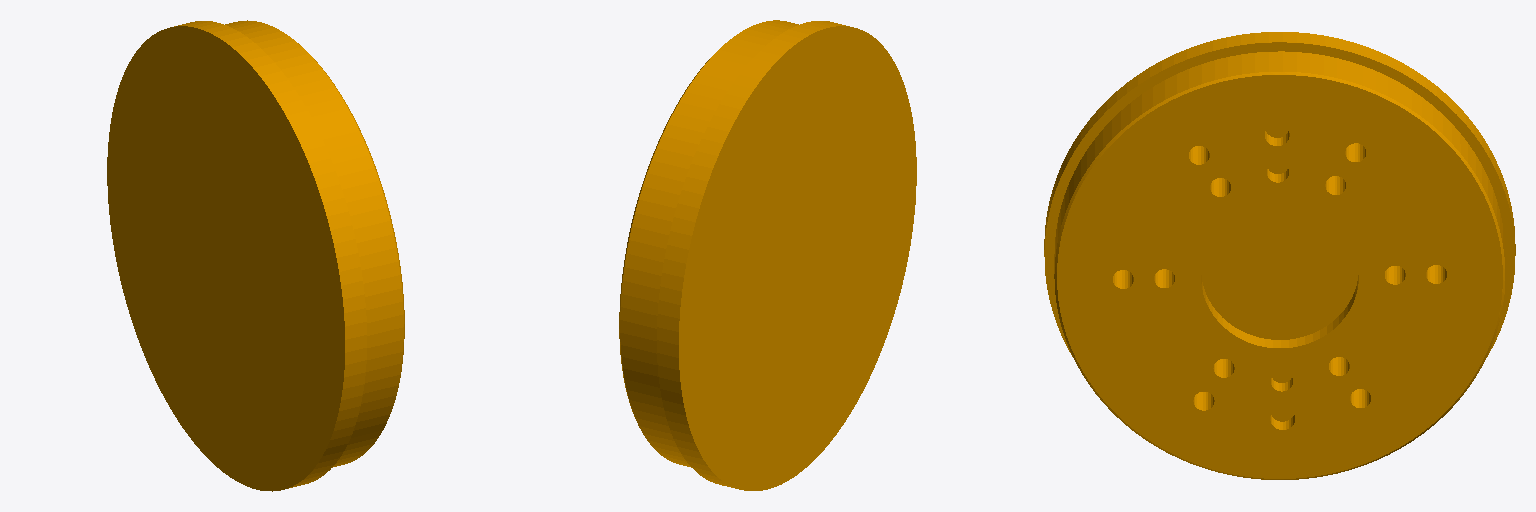
The robot description file, URDF, robot "Robot":
<?xml version="1.0" ?>
<robot name="Robot">

<material name="silver">
  <color rgba="0.700 0.700 0.700 1.000"/>
</material>

<link name="base_link">
  <inertial>
    <origin xyz="0.0 0.0 0.0" rpy="0 0 0"/>
    <mass value="0.0"/>
    <inertia ixx="0.0" iyy="0.0" izz="0.0" ixy="0.0" iyz="0.0" ixz="0.0"/>
  </inertial>
  <visual>
    <origin xyz="0 0 0" rpy="0 0 0"/>
    <geometry>
      <mesh filename="meshes/base_link.stl" scale="0.001 0.001 0.001"/>
    </geometry>
    <material name="silver"/>
    <material/>
  </visual>
  <collision>
    <origin xyz="0 0 0" rpy="0 0 0"/>
    <geometry>
      <mesh filename="meshes/base_link.stl" scale="0.001 0.001 0.001"/>
    </geometry>
  </collision>
</link>

<link name="placa_base1">
  <inertial>
    <origin xyz="0.40877638686219 -1.4600099364657049 -0.6525991128809477" rpy="0 0 0"/>
    <mass value="375.4086793589621"/>
    <inertia ixx="38.02067284848687" iyy="20.791186447290116" izz="56.84458630240343" ixy="-7.702526247044261e-06" iyz="-0.11817074023767304" ixz="-4.431769440316202e-08"/>
  </inertial>
  <visual>
    <origin xyz="0.011211 -2.022818 -0.91961" rpy="0 0 0"/>
    <geometry>
      <mesh filename="meshes/placa_base1.stl" scale="0.001 0.001 0.001"/>
    </geometry>
    <material name="silver"/>
    <material/>
  </visual>
  <collision>
    <origin xyz="0.011211 -2.022818 -0.91961" rpy="0 0 0"/>
    <geometry>
      <mesh filename="meshes/placa_base1.stl" scale="0.001 0.001 0.001"/>
    </geometry>
  </collision>
</link>

<link name="base_r1">
  <inertial>
    <origin xyz="-0.07435754686676044 -0.0004390727397289851 0.1163853188916053" rpy="0 0 0"/>
    <mass value="570.670009527453"/>
    <inertia ixx="15.007731795878271" iyy="29.8002880804859" izz="35.94575537583742" ixy="-0.008385642875907706" iyz="-0.049964601328127856" ixz="0.9746269253855928"/>
  </inertial>
  <visual>
    <origin xyz="-0.397565 -0.568456 -0.317359" rpy="0 0 0"/>
    <geometry>
      <mesh filename="meshes/base_r1.stl" scale="0.001 0.001 0.001"/>
    </geometry>
    <material name="silver"/>
    <material/>
  </visual>
  <collision>
    <origin xyz="-0.397565 -0.568456 -0.317359" rpy="0 0 0"/>
    <geometry>
      <mesh filename="meshes/base_r1.stl" scale="0.001 0.001 0.001"/>
    </geometry>
  </collision>
</link>

<link name="s_axis1">
  <inertial>
    <origin xyz="0.24654028338249517 -0.04135438603178743 0.201938348833121" rpy="0 0 0"/>
    <mass value="704.6084530701154"/>
    <inertia ixx="48.865557050075154" iyy="116.94190982276893" izz="129.87540407311695" ixy="-10.669964153775169" iyz="3.7822918762317954" ixz="12.845024374148181"/>
  </inertial>
  <visual>
    <origin xyz="-0.397565 -0.568456 -0.609359" rpy="0 0 0"/>
    <geometry>
      <mesh filename="meshes/s_axis1.stl" scale="0.001 0.001 0.001"/>
    </geometry>
    <material name="silver"/>
    <material/>
  </visual>
  <collision>
    <origin xyz="-0.397565 -0.568456 -0.609359" rpy="0 0 0"/>
    <geometry>
      <mesh filename="meshes/s_axis1.stl" scale="0.001 0.001 0.001"/>
    </geometry>
  </collision>
</link>

<link name="l_axis1">
  <inertial>
    <origin xyz="0.027205812442917532 -0.16142313250842483 0.46588585894516765" rpy="0 0 0"/>
    <mass value="552.7971519942739"/>
    <inertia ixx="81.3413160735854" iyy="82.03600982568787" izz="9.751944802216144" ixy="-0.6479570420340508" iyz="8.230717944273692" ixz="1.7973074241333507"/>
  </inertial>
  <visual>
    <origin xyz="-1.137571 -0.490512 -0.757359" rpy="0 0 0"/>
    <geometry>
      <mesh filename="meshes/l_axis1.stl" scale="0.001 0.001 0.001"/>
    </geometry>
    <material name="silver"/>
    <material/>
  </visual>
  <collision>
    <origin xyz="-1.137571 -0.490512 -0.757359" rpy="0 0 0"/>
    <geometry>
      <mesh filename="meshes/l_axis1.stl" scale="0.001 0.001 0.001"/>
    </geometry>
  </collision>
</link>

<link name="u_axis1">
  <inertial>
    <origin xyz="0.2916606047917749 0.2143462434100445 0.14928647205424506" rpy="0 0 0"/>
    <mass value="483.4234110989252"/>
    <inertia ixx="14.609702279059547" iyy="57.21389978569323" izz="54.57939855035738" ixy="-6.234944861433519" iyz="-3.416392719524424" ixz="-11.507639554971547"/>
  </inertial>
  <visual>
    <origin xyz="-1.137534 -0.301512 -1.907359" rpy="0 0 0"/>
    <geometry>
      <mesh filename="meshes/u_axis1.stl" scale="0.001 0.001 0.001"/>
    </geometry>
    <material name="silver"/>
    <material/>
  </visual>
  <collision>
    <origin xyz="-1.137534 -0.301512 -1.907359" rpy="0 0 0"/>
    <geometry>
      <mesh filename="meshes/u_axis1.stl" scale="0.001 0.001 0.001"/>
    </geometry>
  </collision>
</link>

<link name="r_axis1">
  <inertial>
    <origin xyz="0.1685563993211039 -0.07412707539147773 -0.0004901924830997828" rpy="0 0 0"/>
    <mass value="8.899946281447061"/>
    <inertia ixx="0.06127843254422061" iyy="0.08034237671594724" izz="0.08937108282597706" ixy="0.018596107290122177" iyz="0.00024897477269725243" ixz="8.428900012091844e-05"/>
  </inertial>
  <visual>
    <origin xyz="-2.166033 -0.568589 -2.157277" rpy="0 0 0"/>
    <geometry>
      <mesh filename="meshes/r_axis1.stl" scale="0.001 0.001 0.001"/>
    </geometry>
    <material name="silver"/>
    <material/>
  </visual>
  <collision>
    <origin xyz="-2.166033 -0.568589 -2.157277" rpy="0 0 0"/>
    <geometry>
      <mesh filename="meshes/r_axis1.stl" scale="0.001 0.001 0.001"/>
    </geometry>
  </collision>
</link>

<link name="b_axis1">
  <inertial>
    <origin xyz="0.10691585220915778 0.13249813747746225 1.7028415353781412e-05" rpy="0 0 0"/>
    <mass value="45.978906535968754"/>
    <inertia ixx="0.38205481909454875" iyy="0.49014927642423345" izz="0.5800243135331584" ixy="0.018167428092283444" iyz="0.00018797387867408588" ixz="-1.824754548351848e-05"/>
  </inertial>
  <visual>
    <origin xyz="-2.362546 -0.399739 -2.157247" rpy="0 0 0"/>
    <geometry>
      <mesh filename="meshes/b_axis1.stl" scale="0.001 0.001 0.001"/>
    </geometry>
    <material name="silver"/>
    <material/>
  </visual>
  <collision>
    <origin xyz="-2.362546 -0.399739 -2.157247" rpy="0 0 0"/>
    <geometry>
      <mesh filename="meshes/b_axis1.stl" scale="0.001 0.001 0.001"/>
    </geometry>
  </collision>
</link>

<link name="t_axis1">
  <inertial>
    <origin xyz="0.014205681418202776 1.4136109089957216e-06 -3.8225856600071495e-06" rpy="0 0 0"/>
    <mass value="5.836276011069466"/>
    <inertia ixx="0.025268192829255298" iyy="0.013037480764481302" izz="0.013092889235352345" ixy="9.167754582151133e-07" iyz="-9.661189421805716e-07" ixz="-3.617309602077512e-06"/>
  </inertial>
  <visual>
    <origin xyz="-2.582537 -0.527255 -2.157192" rpy="0 0 0"/>
    <geometry>
      <mesh filename="meshes/t_axis1.stl" scale="0.001 0.001 0.001"/>
    </geometry>
    <material name="silver"/>
    <material/>
  </visual>
  <collision>
    <origin xyz="-2.582537 -0.527255 -2.157192" rpy="0 0 0"/>
    <geometry>
      <mesh filename="meshes/t_axis1.stl" scale="0.001 0.001 0.001"/>
    </geometry>
  </collision>
</link>

<link name="balancer_21">
  <inertial>
    <origin xyz="-1.0071355171291383 -1.141364295073391 -0.48045645693854944" rpy="0 0 0"/>
    <mass value="34.720628844492076"/>
    <inertia ixx="0.3660507282264831" iyy="6.432975989754773" izz="6.085231601474279" ixy="0.006621337131715421" iyz="-0.0015655726474221865" ixz="1.4321732317723797"/>
  </inertial>
  <visual>
    <origin xyz="-1.412434 -1.519454 -1.498385" rpy="0 0 0"/>
    <geometry>
      <mesh filename="meshes/balancer_21.stl" scale="0.001 0.001 0.001"/>
    </geometry>
    <material name="silver"/>
    <material/>
  </visual>
  <collision>
    <origin xyz="-1.412434 -1.519454 -1.498385" rpy="0 0 0"/>
    <geometry>
      <mesh filename="meshes/balancer_21.stl" scale="0.001 0.001 0.001"/>
    </geometry>
  </collision>
</link>

<link name="balancer_11">
  <inertial>
    <origin xyz="0.27454396791234575 -1.5743809510766291 -0.7961805409798757" rpy="0 0 0"/>
    <mass value="1052.0941459866974"/>
    <inertia ixx="24.42331144454556" iyy="134.39070049428642" izz="128.35779332816" ixy="-0.008243507566618291" iyz="0.001952817510357363" ixz="26.04558294972415"/>
  </inertial>
  <visual>
    <origin xyz="0.078722 -1.952822 -1.863697" rpy="0 0 0"/>
    <geometry>
      <mesh filename="meshes/balancer_11.stl" scale="0.001 0.001 0.001"/>
    </geometry>
    <material name="silver"/>
    <material/>
  </visual>
  <collision>
    <origin xyz="0.078722 -1.952822 -1.863697" rpy="0 0 0"/>
    <geometry>
      <mesh filename="meshes/balancer_11.stl" scale="0.001 0.001 0.001"/>
    </geometry>
  </collision>
</link>

<joint name="base_link1" type="prismatic">
  <origin xyz="-0.011211 2.022818 0.91961" rpy="0 0 0"/>
  <parent link="base_link"/>
  <child link="placa_base1"/>
  <axis xyz="0.0 -1.0 0.0"/>
  <limit upper="-0.01" lower="-1.9" effort="100" velocity="100"/>
</joint>
<transmission name="base_link1_tran">
  <type>transmission_interface/SimpleTransmission</type>
  <joint name="base_link1">
    <hardwareInterface>PositionJointInterface</hardwareInterface>
  </joint>
  <actuator name="base_link1_actr">
    <hardwareInterface>PositionJointInterface</hardwareInterface>
    <mechanicalReduction>1</mechanicalReduction>
  </actuator>
</transmission>

<joint name="rig1" type="fixed">
  <origin xyz="0.408776 -1.454362 -0.602251" rpy="0 0 0"/>
  <parent link="placa_base1"/>
  <child link="base_r1"/>
</joint>

<joint name="link1_link2" type="continuous">
  <origin xyz="0.0 0.0 0.292" rpy="0 0 0"/>
  <parent link="base_r1"/>
  <child link="s_axis1"/>
  <axis xyz="0.0 0.0 1.0"/>
</joint>
<transmission name="link1_link2_tran">
  <type>transmission_interface/SimpleTransmission</type>
  <joint name="link1_link2">
    <hardwareInterface>PositionJointInterface</hardwareInterface>
  </joint>
  <actuator name="link1_link2_actr">
    <hardwareInterface>PositionJointInterface</hardwareInterface>
    <mechanicalReduction>1</mechanicalReduction>
  </actuator>
</transmission>

<joint name="link2_link3" type="revolute">
  <origin xyz="0.740006 -0.077944 0.148" rpy="0 0 0"/>
  <parent link="s_axis1"/>
  <child link="l_axis1"/>
  <axis xyz="7.5e-05 -1.0 0.0"/>
  <limit upper="0.610865" lower="-1.22173" effort="100" velocity="100"/>
</joint>
<transmission name="link2_link3_tran">
  <type>transmission_interface/SimpleTransmission</type>
  <joint name="link2_link3">
    <hardwareInterface>PositionJointInterface</hardwareInterface>
  </joint>
  <actuator name="link2_link3_actr">
    <hardwareInterface>PositionJointInterface</hardwareInterface>
    <mechanicalReduction>1</mechanicalReduction>
  </actuator>
</transmission>

<joint name="link3_link4" type="continuous">
  <origin xyz="-3.7e-05 -0.189 1.15" rpy="0 0 0"/>
  <parent link="l_axis1"/>
  <child link="u_axis1"/>
  <axis xyz="-7.5e-05 1.0 -0.0"/>
</joint>
<transmission name="link3_link4_tran">
  <type>transmission_interface/SimpleTransmission</type>
  <joint name="link3_link4">
    <hardwareInterface>PositionJointInterface</hardwareInterface>
  </joint>
  <actuator name="link3_link4_actr">
    <hardwareInterface>PositionJointInterface</hardwareInterface>
    <mechanicalReduction>1</mechanicalReduction>
  </actuator>
</transmission>

<joint name="link4_link5" type="continuous">
  <origin xyz="1.028499 0.267077 0.249918" rpy="0 0 0"/>
  <parent link="u_axis1"/>
  <child link="r_axis1"/>
  <axis xyz="1.0 7.5e-05 -8e-05"/>
</joint>
<transmission name="link4_link5_tran">
  <type>transmission_interface/SimpleTransmission</type>
  <joint name="link4_link5">
    <hardwareInterface>PositionJointInterface</hardwareInterface>
  </joint>
  <actuator name="link4_link5_actr">
    <hardwareInterface>PositionJointInterface</hardwareInterface>
    <mechanicalReduction>1</mechanicalReduction>
  </actuator>
</transmission>

<joint name="link5_link6" type="revolute">
  <origin xyz="0.196513 -0.16885 -3e-05" rpy="0 0 0"/>
  <parent link="r_axis1"/>
  <child link="b_axis1"/>
  <axis xyz="7.5e-05 -1.0 -8.2e-05"/>
  <limit upper="2.094395" lower="-2.094395" effort="100" velocity="100"/>
</joint>
<transmission name="link5_link6_tran">
  <type>transmission_interface/SimpleTransmission</type>
  <joint name="link5_link6">
    <hardwareInterface>PositionJointInterface</hardwareInterface>
  </joint>
  <actuator name="link5_link6_actr">
    <hardwareInterface>PositionJointInterface</hardwareInterface>
    <mechanicalReduction>1</mechanicalReduction>
  </actuator>
</transmission>

<joint name="link6_link7" type="continuous">
  <origin xyz="0.219991 0.127516 -5.5e-05" rpy="0 0 0"/>
  <parent link="b_axis1"/>
  <child link="t_axis1"/>
  <axis xyz="1.0 7.5e-05 -0.000297"/>
</joint>
<transmission name="link6_link7_tran">
  <type>transmission_interface/SimpleTransmission</type>
  <joint name="link6_link7">
    <hardwareInterface>PositionJointInterface</hardwareInterface>
  </joint>
  <actuator name="link6_link7_actr">
    <hardwareInterface>PositionJointInterface</hardwareInterface>
    <mechanicalReduction>1</mechanicalReduction>
  </actuator>
</transmission>

<joint name="rig2" type="fixed">
  <origin xyz="1.014869 0.950998 0.889026" rpy="0 0 0"/>
  <parent link="s_axis1"/>
  <child link="balancer_21"/>
</joint>

<joint name="rig3" type="fixed">
  <origin xyz="-1.491156 0.433368 0.365312" rpy="0 0 0"/>
  <parent link="balancer_21"/>
  <child link="balancer_11"/>
</joint>

</robot>

--- Render facts (derived) ---
Views: 3 orthographic renders of the robot side by side, from view 1: azimuth 30°, elevation 25°; view 2: azimuth 150°, elevation 25°; view 3: azimuth 270°, elevation 25°.
Model Robot with 11 links and 10 joints (2 revolute, 4 continuous, 1 prismatic, 3 fixed), rooted at base_link, posed joints at zero except 1 at the middle of their limits (base_link1 = -0.955).
Links seen in each view (by area): view 1: t_axis1; view 2: t_axis1; view 3: t_axis1.
Link boxes in pixels (bbox=[...]): t_axis1: bbox=[107, 20, 404, 491]; t_axis1: bbox=[619, 20, 916, 490]; t_axis1: bbox=[1044, 32, 1515, 479].
Bounding box of the posed robot: 0.0301 × 0.188 × 0.188 m (x, y, z).
Meshes: 11 distinct files referenced, 1 mesh visuals loaded (1 binary STL); not drawn: 10 (reference not matched to a file when rendering).